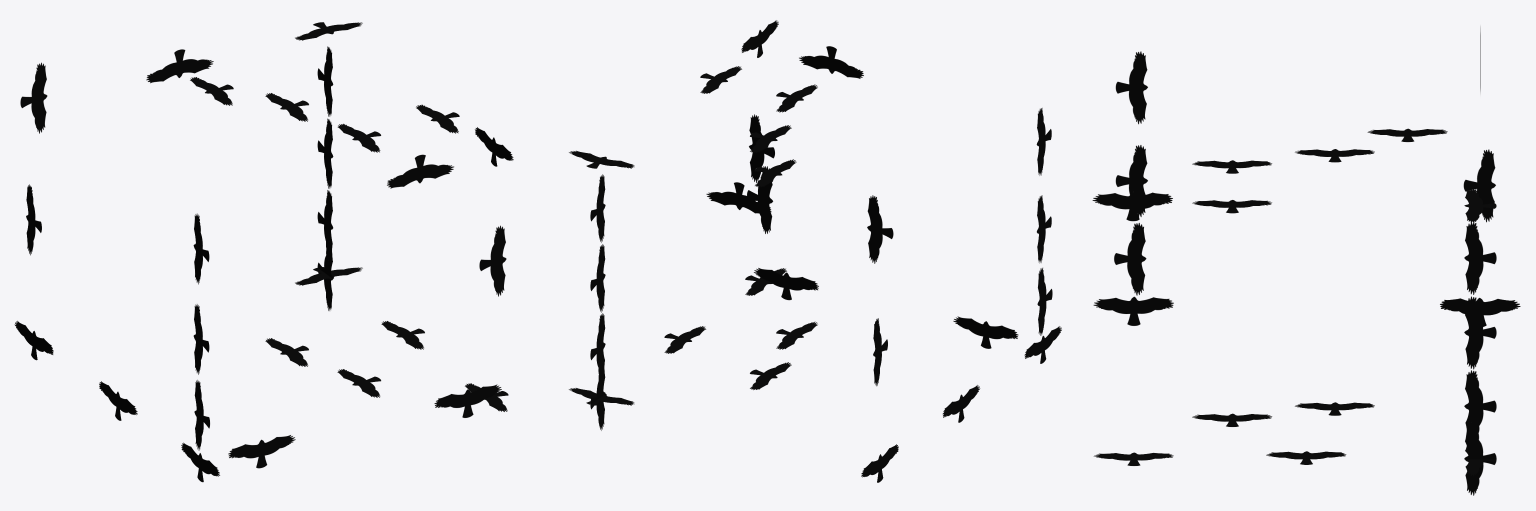
Rendered from asset.glb.
The picture shows the model from 3 angles, left to right: view 1: azimuth 30°, elevation 25°; view 2: azimuth 150°, elevation 25°; view 3: azimuth 270°, elevation 25°; orthographic projection. The views are drawn at different scales.
Visible parts, largest first — view 1: vogelstickerrichtig.015, vogelstickerrichtig.017, vogelstickerrichtig.009, vogelstickerrichtig.010, vogelstickerrichtig.014, vogelstickerrichtig.005, vogelstickerrichtig.008, vogelstickerrichtig.018, vogelstickerrichtig.019; view 2: vogelstickerrichtig.005, vogelstickerrichtig.015, vogelstickerrichtig.009, vogelstickerrichtig.010, vogelstickerrichtig.014, vogelstickerrichtig.017, vogelstickerrichtig.013; view 3: vogelstickerrichtig.007, vogelstickerrichtig.011, vogelstickerrichtig.018, vogelstickerrichtig.023, vogelstickerrichtig.016, vogelstickerrichtig.019, vogelstickerrichtig.012, vogelstickerrichtig.008, vogelstickerrichtig.020, vogelstickerrichtig.002, vogelstickerrichtig, vogelstickerrichtig.022 (+8 smaller).
Part boxes in pixels (x1=…): vogelstickerrichtig.015: x1=434, y1=384, x2=501, y2=417; vogelstickerrichtig.017: x1=479, y1=225, x2=506, y2=296; vogelstickerrichtig.009: x1=146, y1=49, x2=213, y2=83; vogelstickerrichtig.010: x1=387, y1=154, x2=453, y2=188; vogelstickerrichtig.014: x1=228, y1=435, x2=295, y2=468; vogelstickerrichtig.005: x1=20, y1=62, x2=47, y2=133; vogelstickerrichtig.008: x1=26, y1=184, x2=41, y2=255; vogelstickerrichtig.018: x1=194, y1=380, x2=209, y2=450; vogelstickerrichtig.019: x1=193, y1=213, x2=209, y2=284; vogelstickerrichtig.005: x1=867, y1=195, x2=893, y2=263; vogelstickerrichtig.015: x1=754, y1=268, x2=818, y2=300; vogelstickerrichtig.009: x1=706, y1=182, x2=771, y2=214; vogelstickerrichtig.010: x1=799, y1=46, x2=863, y2=78; vogelstickerrichtig.014: x1=953, y1=316, x2=1018, y2=348; vogelstickerrichtig.017: x1=749, y1=114, x2=774, y2=182; vogelstickerrichtig.013: x1=747, y1=166, x2=772, y2=233; vogelstickerrichtig.007: x1=1464, y1=296, x2=1496, y2=369; vogelstickerrichtig.011: x1=1092, y1=192, x2=1172, y2=221; vogelstickerrichtig.018: x1=1114, y1=222, x2=1146, y2=295; vogelstickerrichtig.023: x1=1093, y1=296, x2=1173, y2=325; vogelstickerrichtig.016: x1=1464, y1=370, x2=1496, y2=443; vogelstickerrichtig.019: x1=1115, y1=51, x2=1147, y2=124; vogelstickerrichtig.012: x1=1464, y1=222, x2=1496, y2=294; vogelstickerrichtig.008: x1=1463, y1=149, x2=1495, y2=222; vogelstickerrichtig.020: x1=1115, y1=145, x2=1147, y2=216; vogelstickerrichtig.002: x1=1464, y1=423, x2=1496, y2=495; vogelstickerrichtig: x1=1440, y1=298, x2=1520, y2=326; vogelstickerrichtig.022: x1=1093, y1=452, x2=1173, y2=466.
Size of the model in its own units: 11.69 by 10.43 by 12.38.
31 materials, 31 textured.
